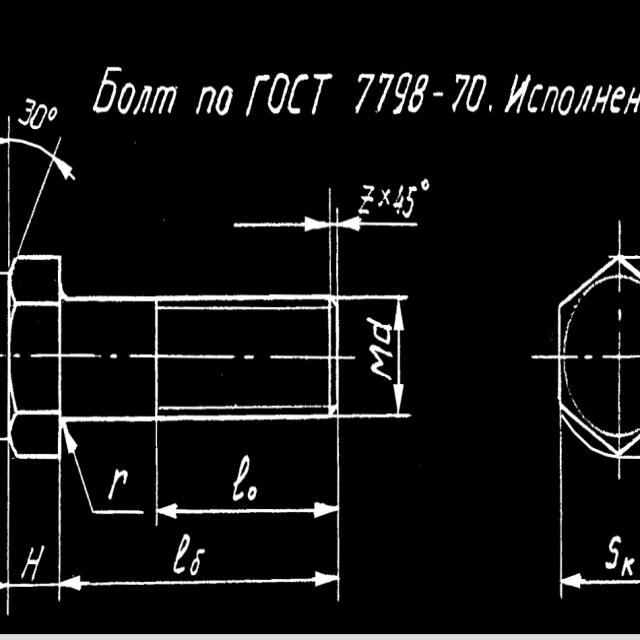marking_line: (159, 460, 337, 526), (0, 129, 83, 253), (63, 427, 153, 524), (61, 569, 338, 593), (232, 211, 327, 235), (392, 300, 409, 413), (341, 212, 421, 236), (562, 571, 640, 594)
numeric: (12, 98, 47, 132), (394, 179, 418, 225)
